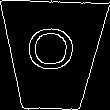O_S: (27, 29, 79, 82)
